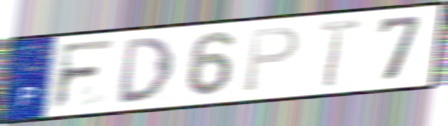6: (184, 29, 238, 99)
7: (373, 14, 428, 83)
D: (116, 34, 177, 106)
F: (48, 37, 120, 113)
P: (241, 24, 302, 95)
T: (317, 16, 363, 90)
